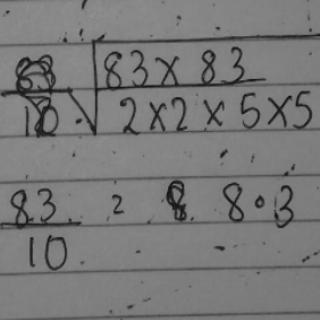.: (251, 191, 272, 215)
1: (27, 231, 41, 270)
2: (168, 94, 195, 139), (118, 94, 140, 138), (107, 188, 131, 220)
3: (272, 181, 297, 229), (34, 184, 61, 226), (127, 47, 153, 88), (223, 43, 245, 87)
5: (231, 91, 265, 133), (288, 86, 316, 130)
8: (221, 182, 246, 226), (103, 49, 129, 90), (12, 188, 33, 230), (197, 47, 218, 84)
